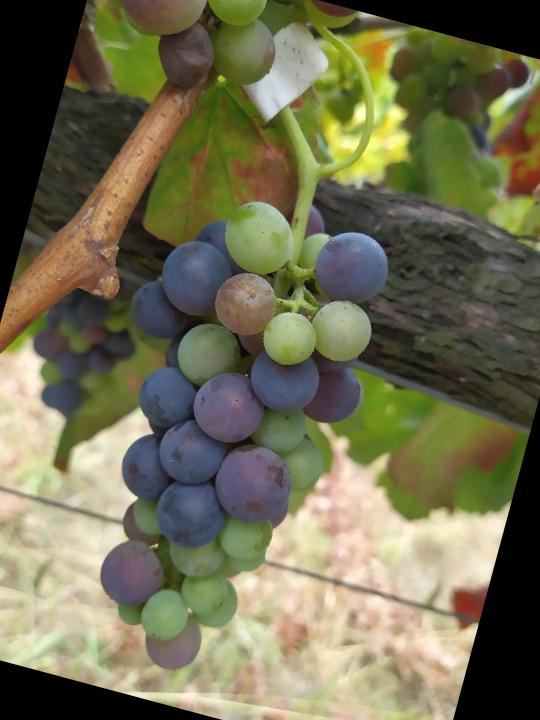grape: (37, 176, 405, 705)
